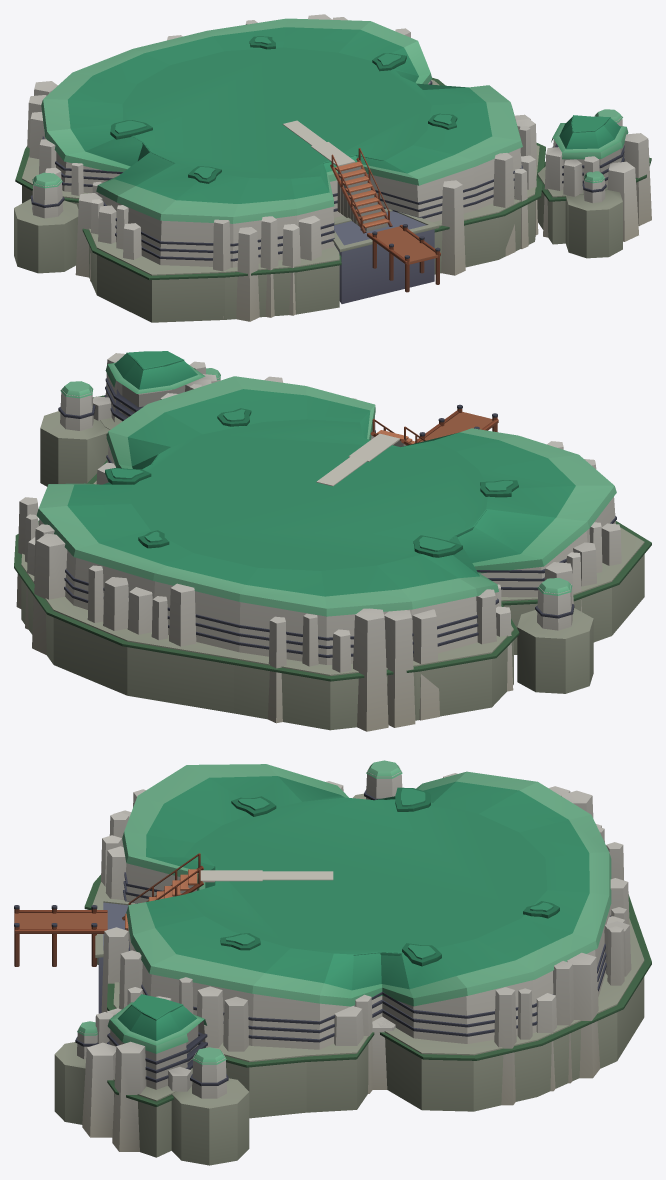
The model's file is lighthouse-body.glb.
3 renders of one model, top to bottom at view 1: azimuth 30°, elevation 25°; view 2: azimuth 150°, elevation 25°; view 3: azimuth 270°, elevation 25°, orthographic. The views are drawn at different scales.
Visible parts, largest first — view 1: body; view 2: body; view 3: body.
Part boxes in pixels (<box>): body: <box>14,14,651,322</box>; body: <box>14,351,651,731</box>; body: <box>14,760,651,1165</box>.
Bounding box in the file's own units: 34.05 × 6.58 × 28.82.
